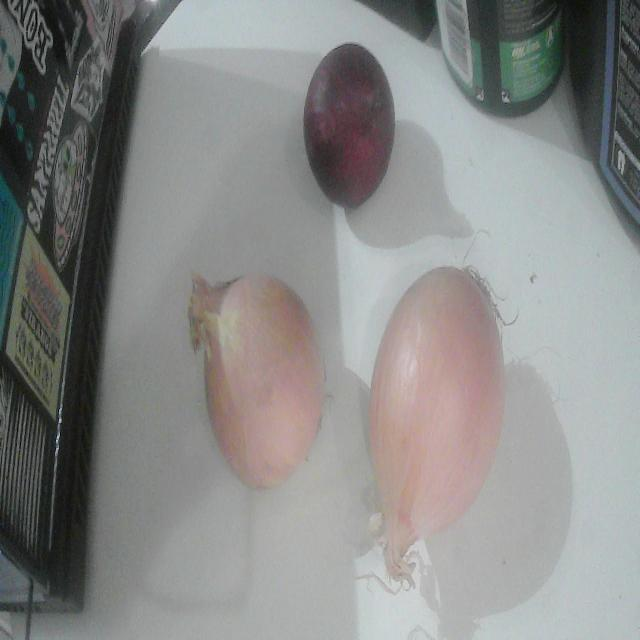Onion: (369, 267, 504, 579), (188, 276, 324, 489), (304, 44, 394, 209)
